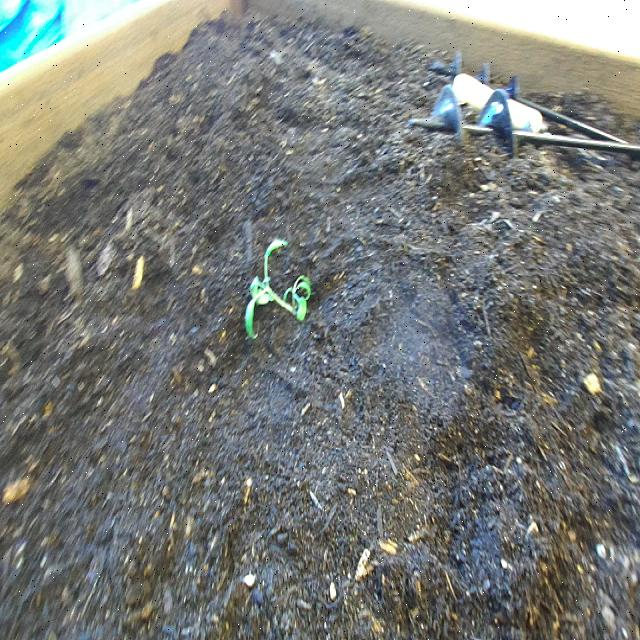Unhealthy: (243, 231, 314, 341)
